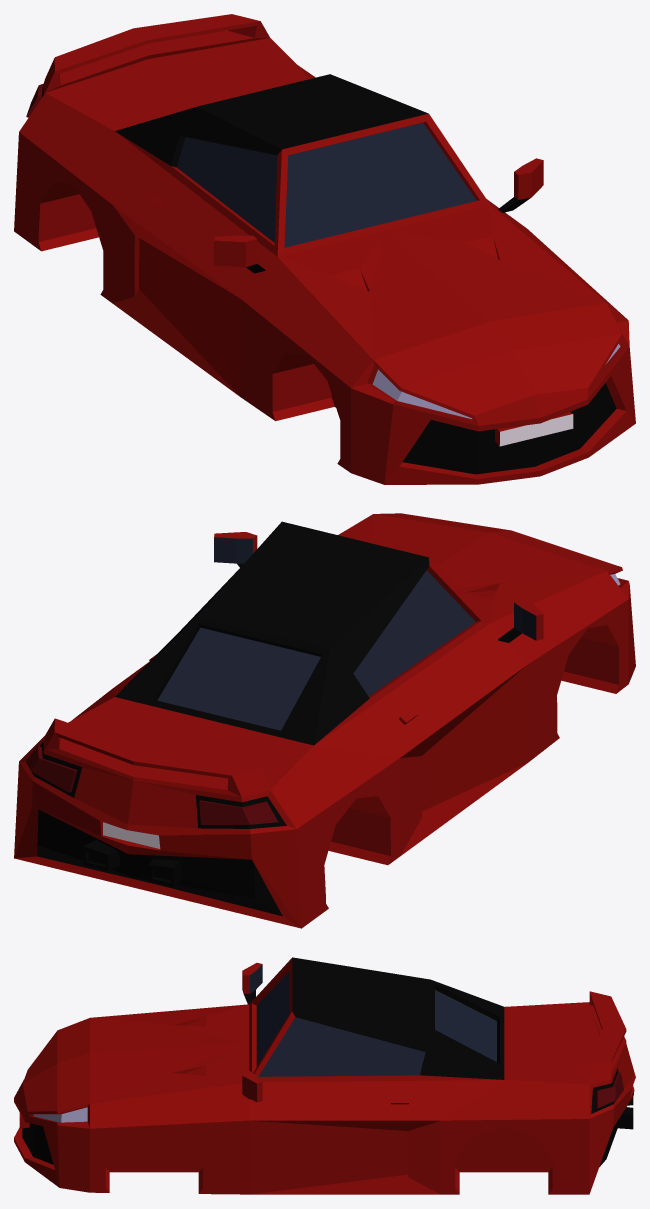
Rendered from Sports_Sports_Skeletal.FBX.
The picture shows the model from 3 angles, top to bottom: view 1: azimuth 30°, elevation 25°; view 2: azimuth 150°, elevation 25°; view 3: azimuth 270°, elevation 25°; orthographic projection. The views are drawn at different scales.
Parts seen in each view (by area): view 1: Sports_Sports; view 2: Sports_Sports; view 3: Sports_Sports.
Part boxes in pixels (x1=…): Sports_Sports: x1=14, y1=14, x2=635, y2=484; Sports_Sports: x1=14, y1=513, x2=635, y2=928; Sports_Sports: x1=14, y1=957, x2=635, y2=1194.
Size of the model in its own units: 263 by 573 by 160.
